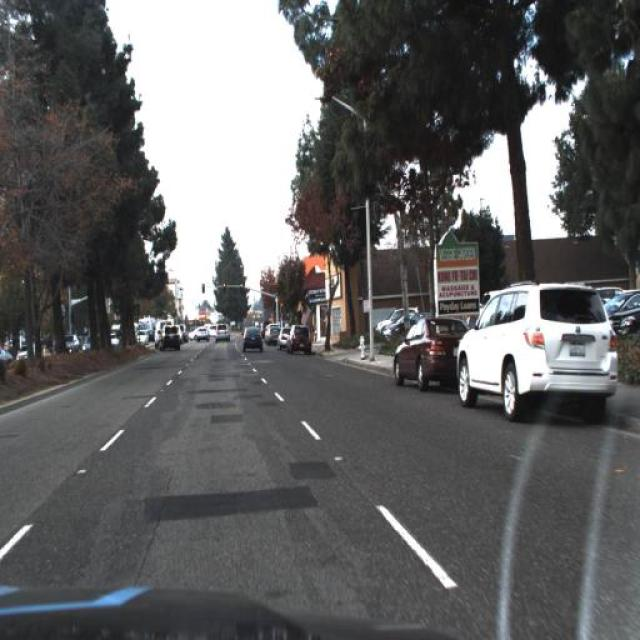car: (456, 278, 624, 422), (390, 310, 464, 400), (283, 319, 317, 366), (156, 321, 186, 354), (238, 324, 268, 356), (266, 320, 283, 354), (275, 322, 291, 358), (212, 320, 234, 346), (194, 328, 210, 342)
